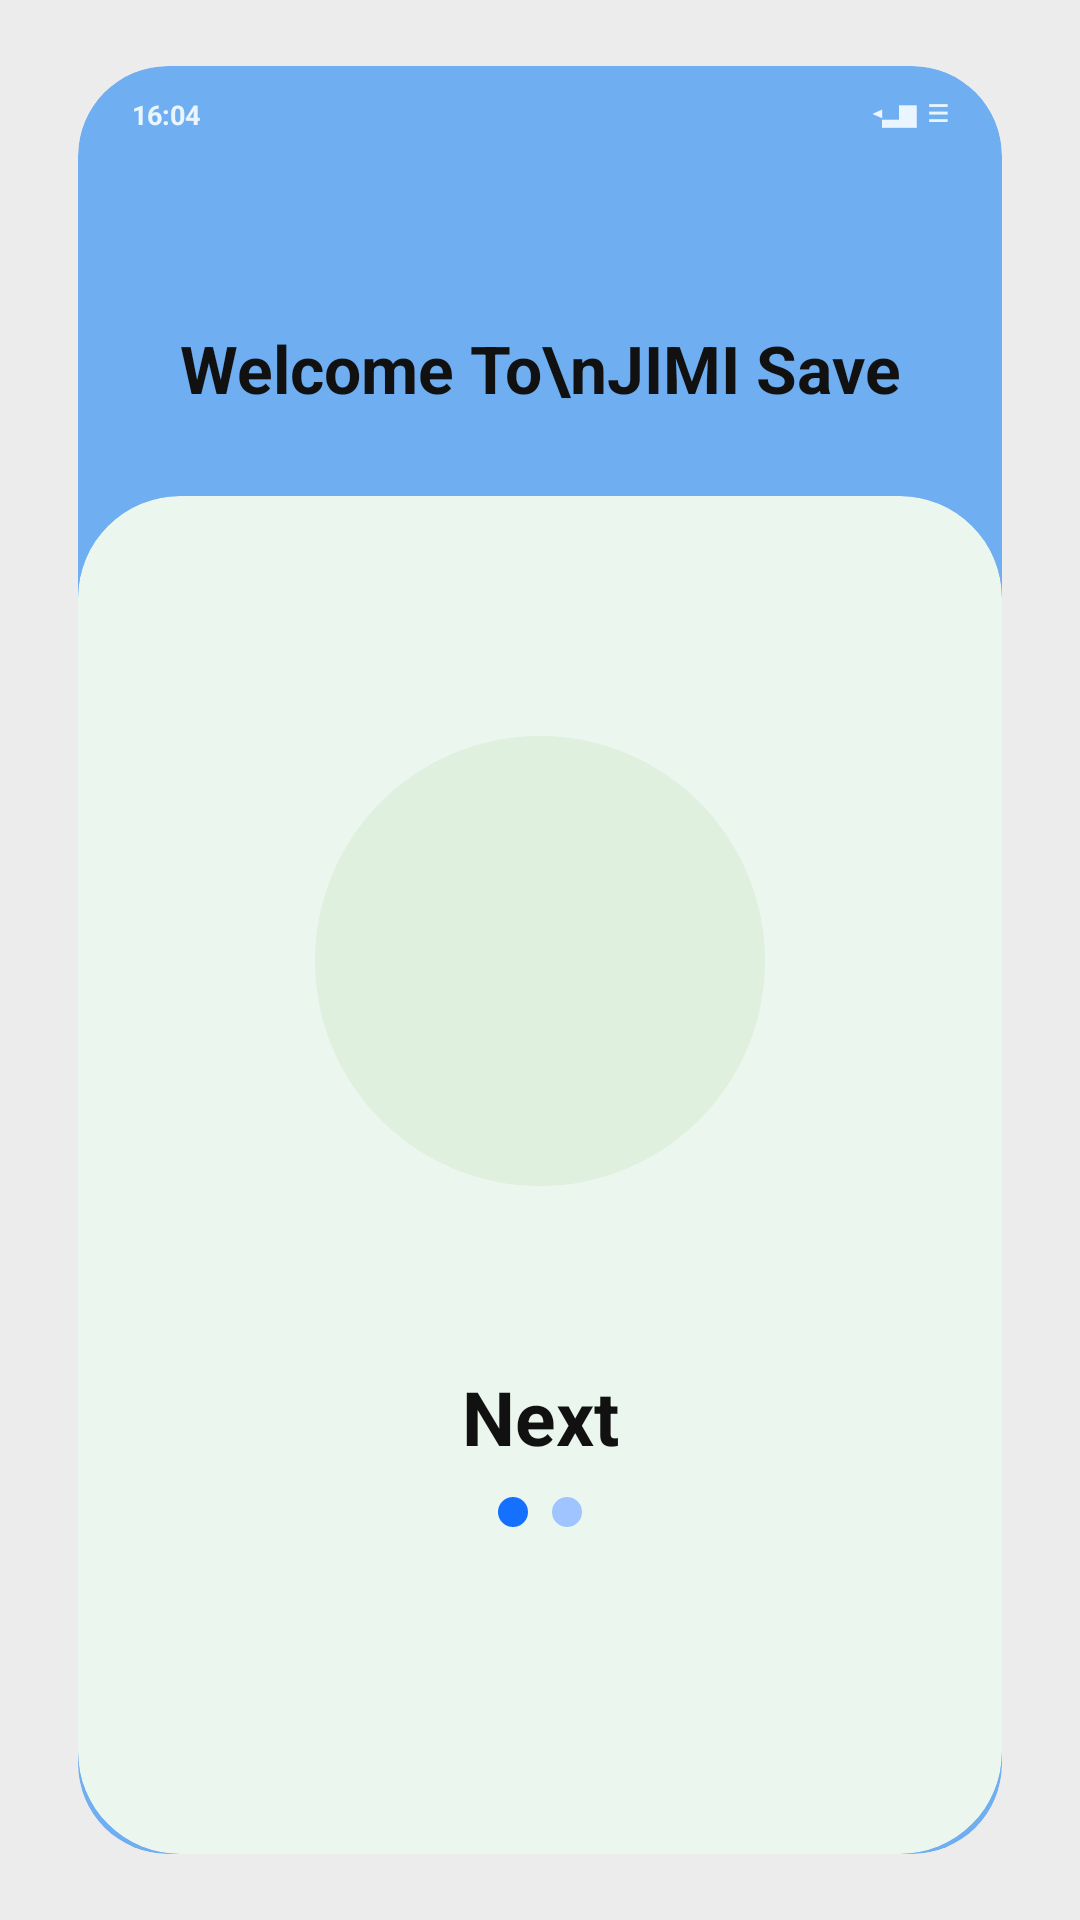

Locate icon controls on the screen. Image size 1080×1920, boxes as (x1, y1, x2, y2).
dot: (498, 1497, 528, 1527), (552, 1497, 582, 1527)
